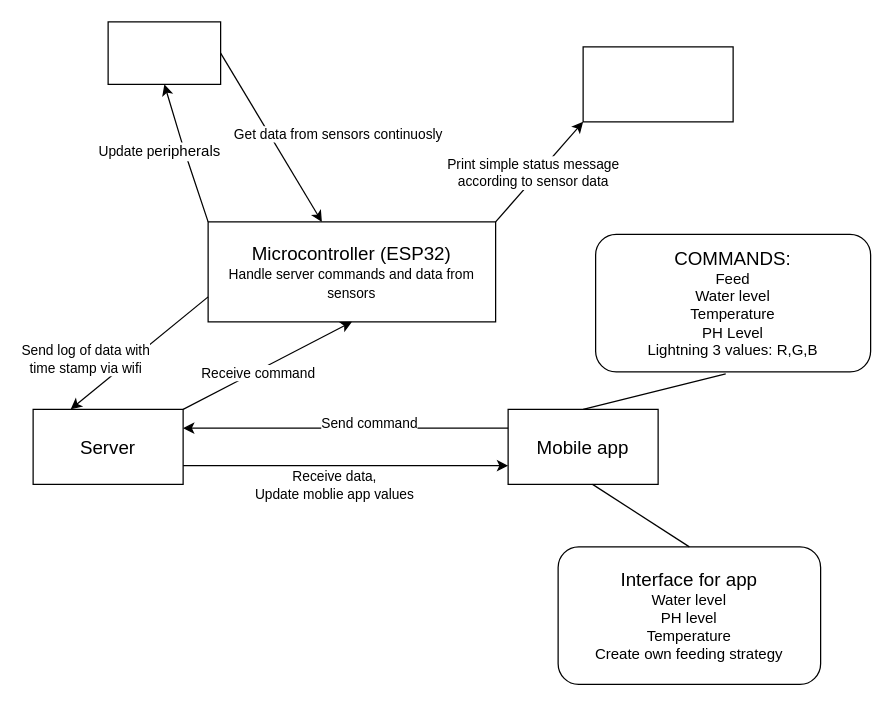
The diagram is 894 pixels wide and 706 high, and some of its shapes have lost their labels. The box of each missing label's shape, as (x1, y1, x2, y2) in pixels:
LCD screen: (582, 46, 733, 122)
Peripherals: (107, 21, 221, 84)
